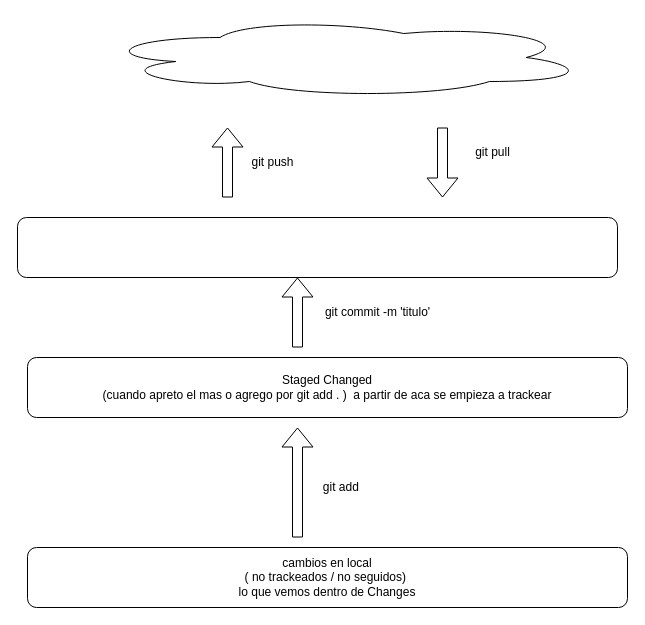
This 645x625 diagram has some shape labels left out. The shapes that lost their labels are listed below. From the top down, each one's box as (x1, y1, x2, y2) in pixels, then its label:
(96, 16, 588, 98): internet ( github o git lab )
(16, 216, 618, 278): Commit (no se ven)
